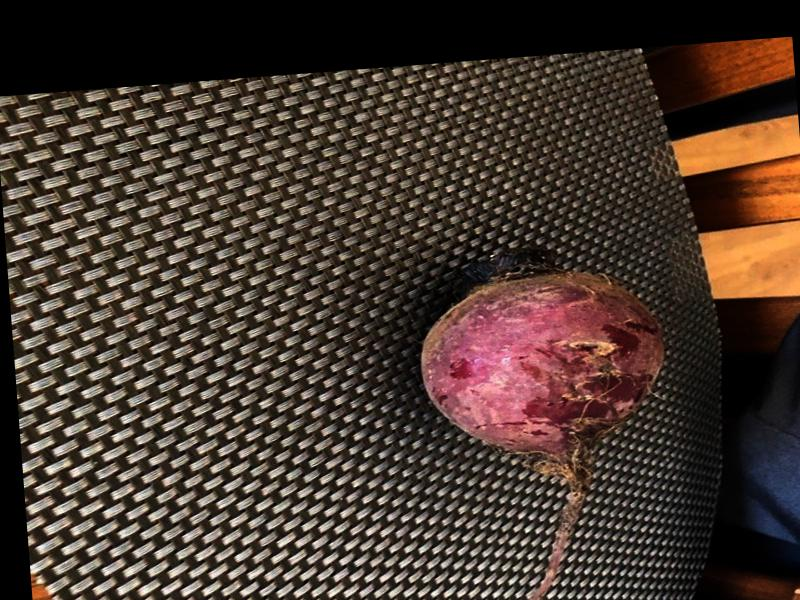Beet: (414, 233, 687, 600)
